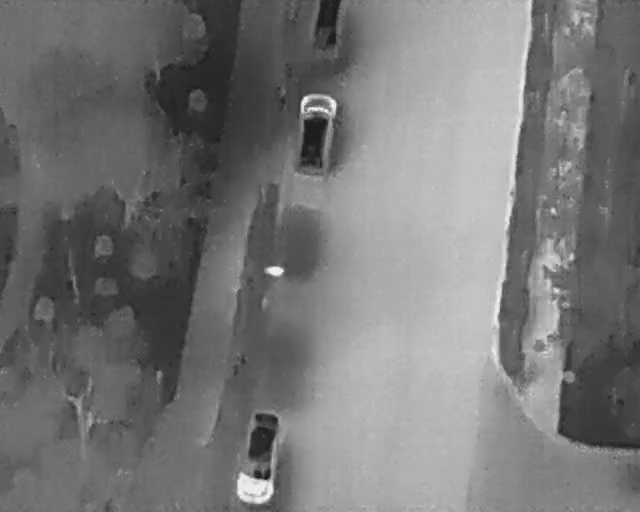Car: (234, 406, 286, 506), (291, 90, 339, 180), (309, 0, 343, 58)
